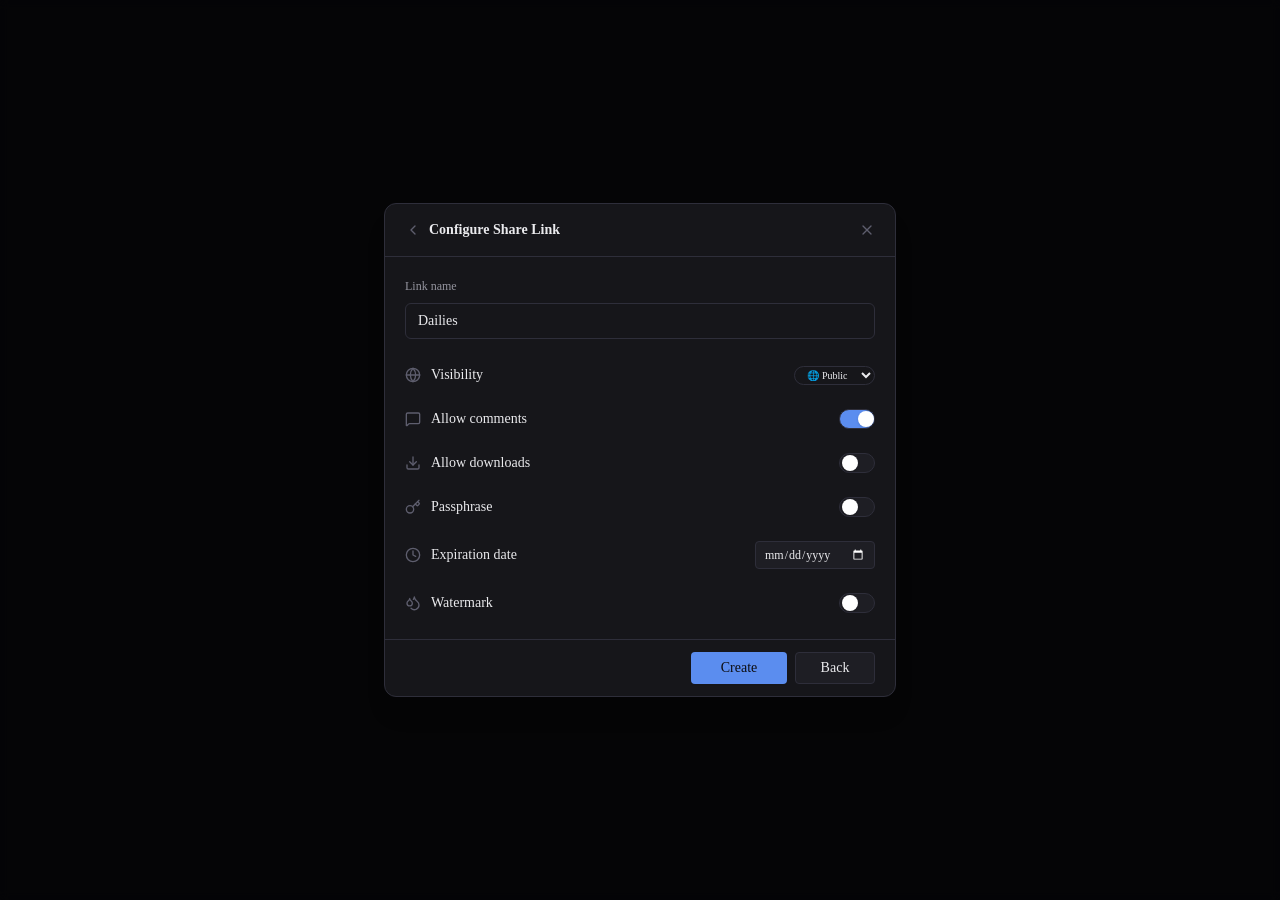
Test: ShareCreateDialog after Create › copies the link and says so
Click the button "Create": coordinates (739, 668) [691, 652, 787, 684]
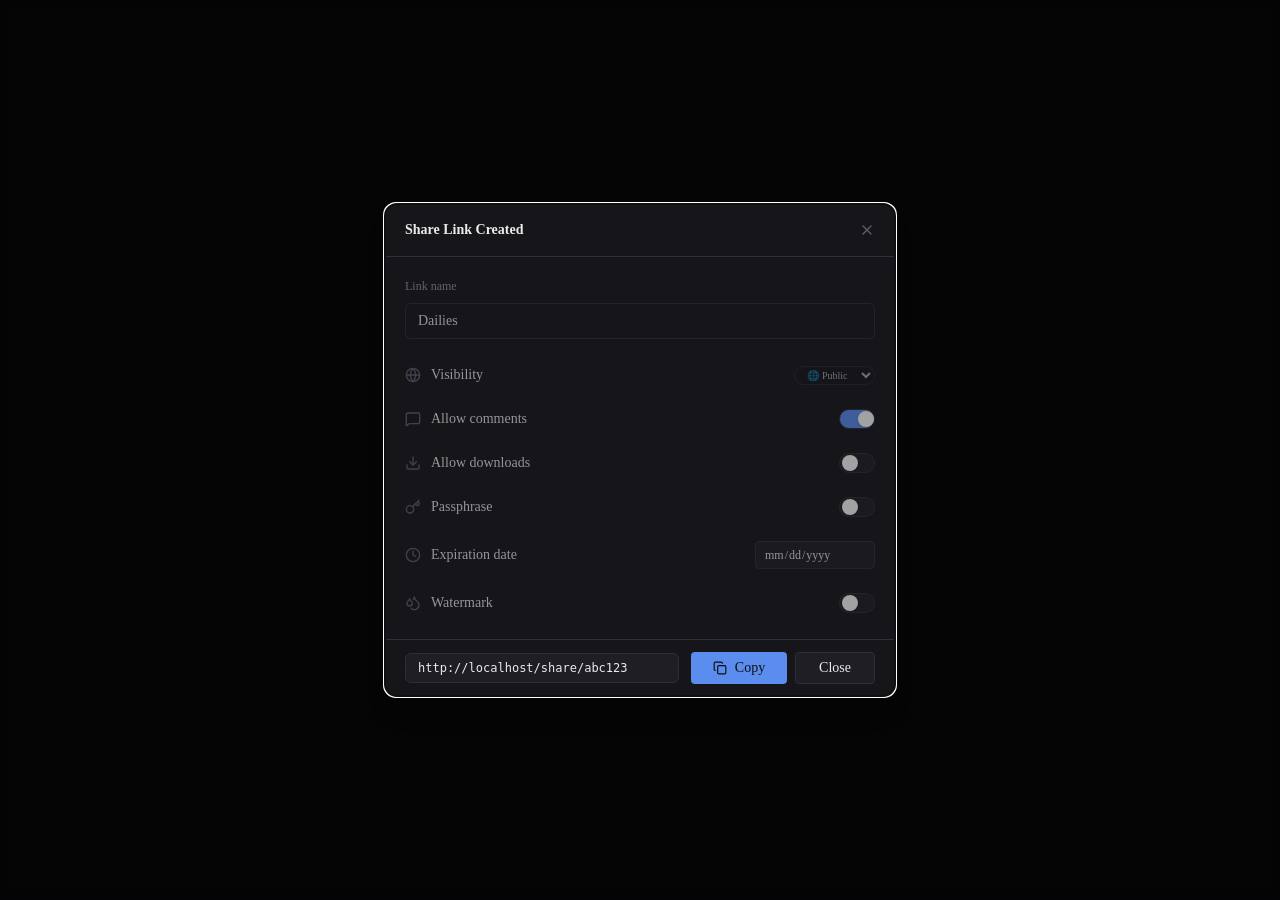
Result: the text "http://localhost/share/abc123" is shown at [405, 653, 679, 683]
Click the button "Copy": coordinates (739, 668) [691, 652, 787, 684]
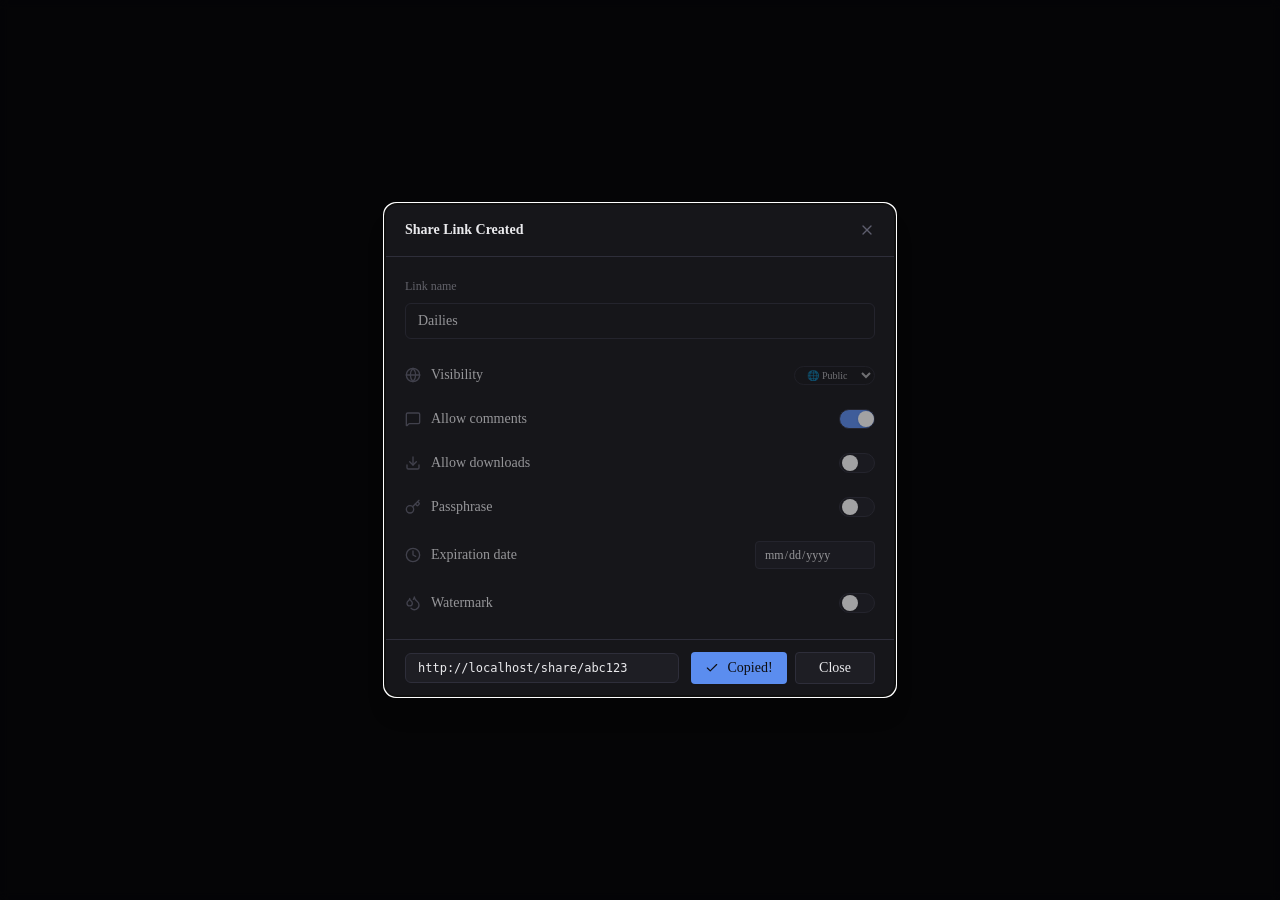
Result: the button "Copied!" is shown at [691, 652, 787, 684]
